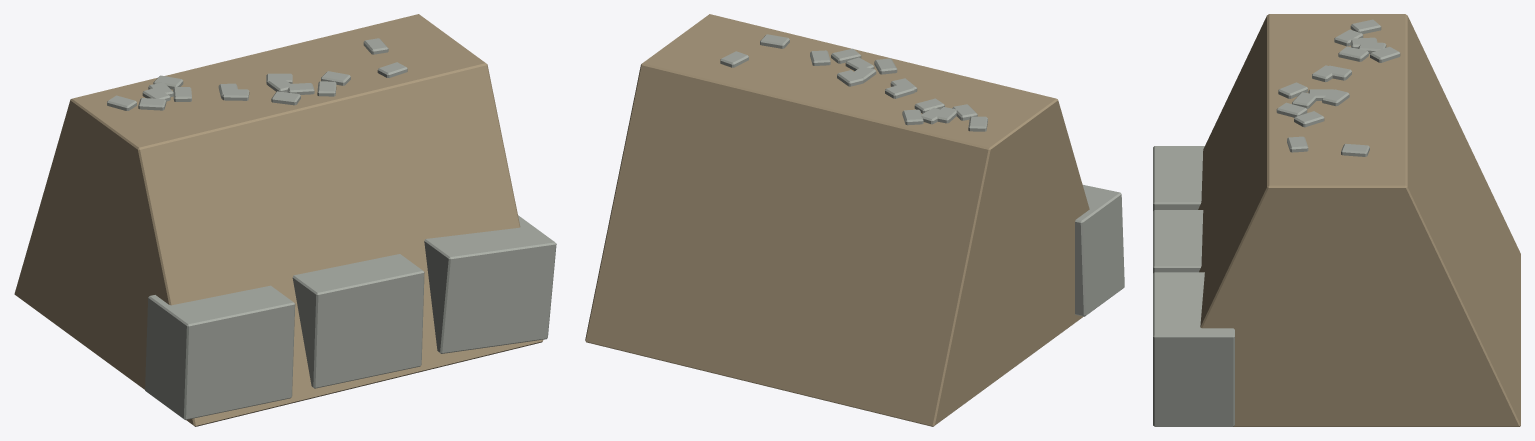
File: FireBerm.glb
The picture shows the model from 3 angles, left to right: view 1: azimuth 30°, elevation 25°; view 2: azimuth 150°, elevation 25°; view 3: azimuth 270°, elevation 25°; orthographic projection.
Parts seen in each view (by area): view 1: Packed earth, Stone facing, Stone facing.002, Stone facing.001; view 2: Packed earth, Stone facing; view 3: Packed earth, Stone facing.002, Stone facing, Stone facing.001.
Part boxes in pixels (left/top/right/bottom): Packed earth: left=14, top=14, right=543, bottom=426; Stone facing: left=145, top=285, right=295, bottom=419; Stone facing.002: left=424, top=215, right=556, bottom=353; Stone facing.001: left=292, top=254, right=424, bottom=388; Packed earth: left=585, top=14, right=1089, bottom=426; Stone facing: left=1075, top=185, right=1124, bottom=316; Packed earth: left=1198, top=14, right=1520, bottom=426; Stone facing.002: left=1153, top=272, right=1234, bottom=426; Stone facing: left=1153, top=146, right=1204, bottom=210; Stone facing.001: left=1153, top=210, right=1203, bottom=273.
Bounding box in the file's own units: 1.07 × 0.6625 × 0.8984.
